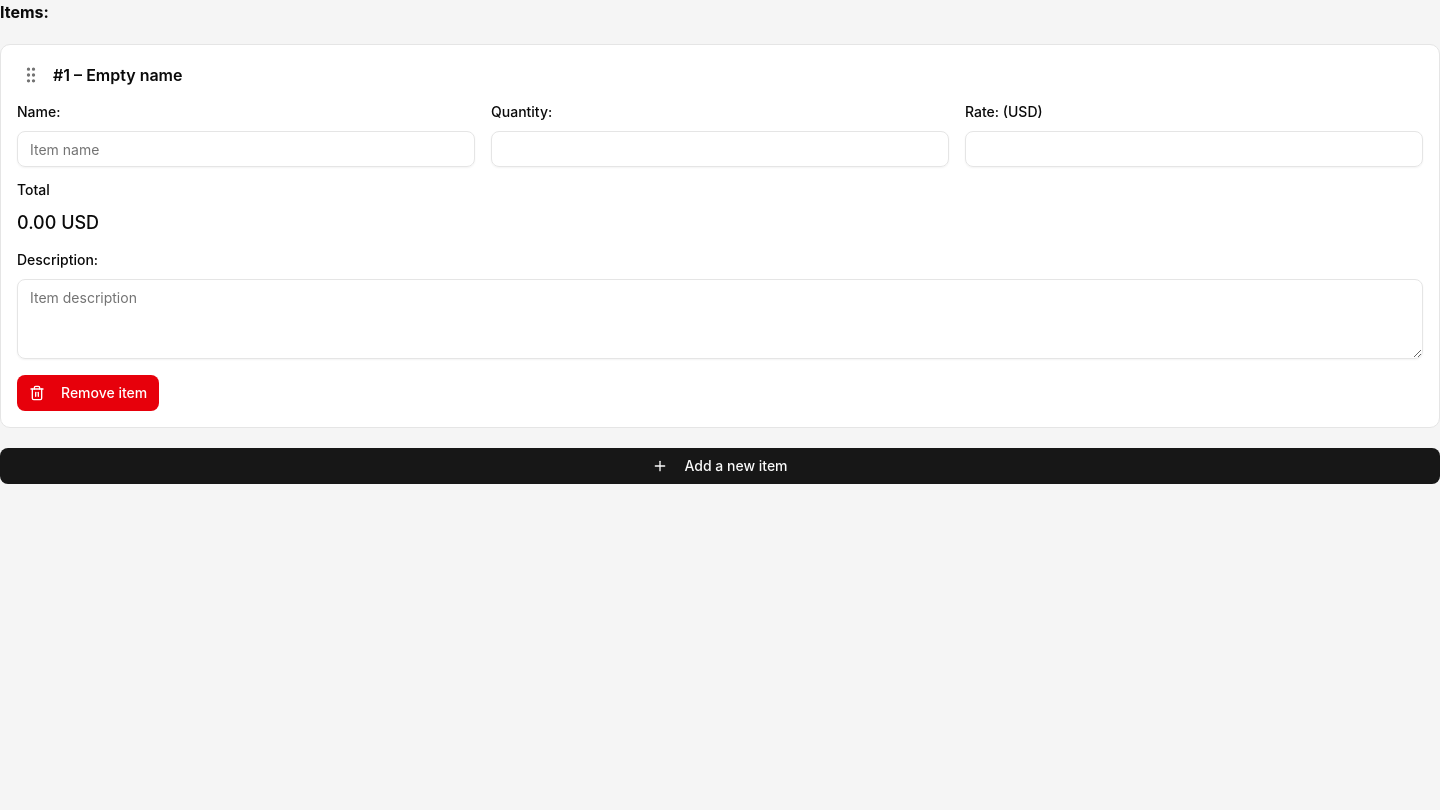
Test: LineItems › removes the item after confirming in the alert dialog
The image size is (1440, 810).
Click the button "Add a new item".
click(720, 466)  # box [0,448,1439,484]
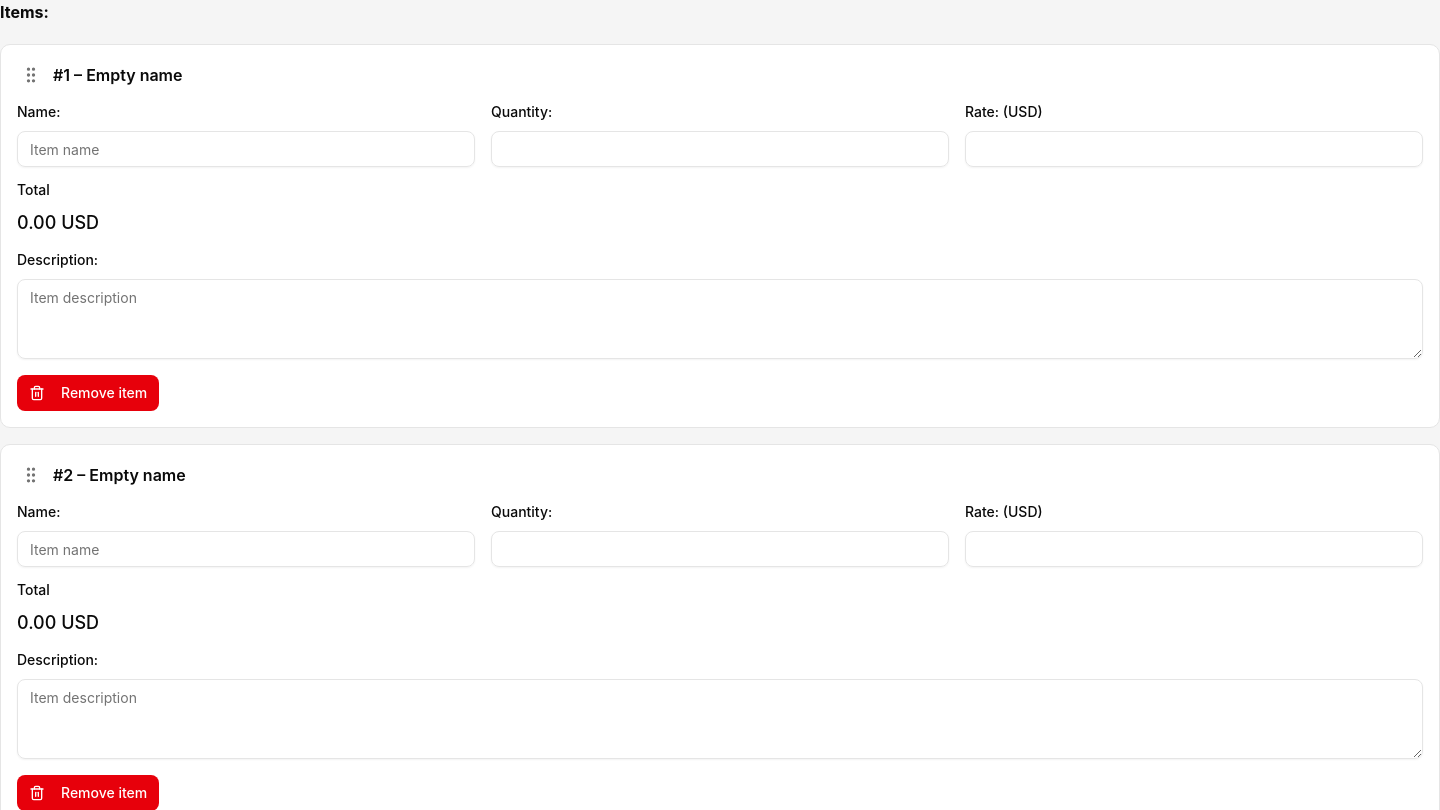
Click the 1st button "Remove item".
click(88, 393)  # box [17,375,159,411]
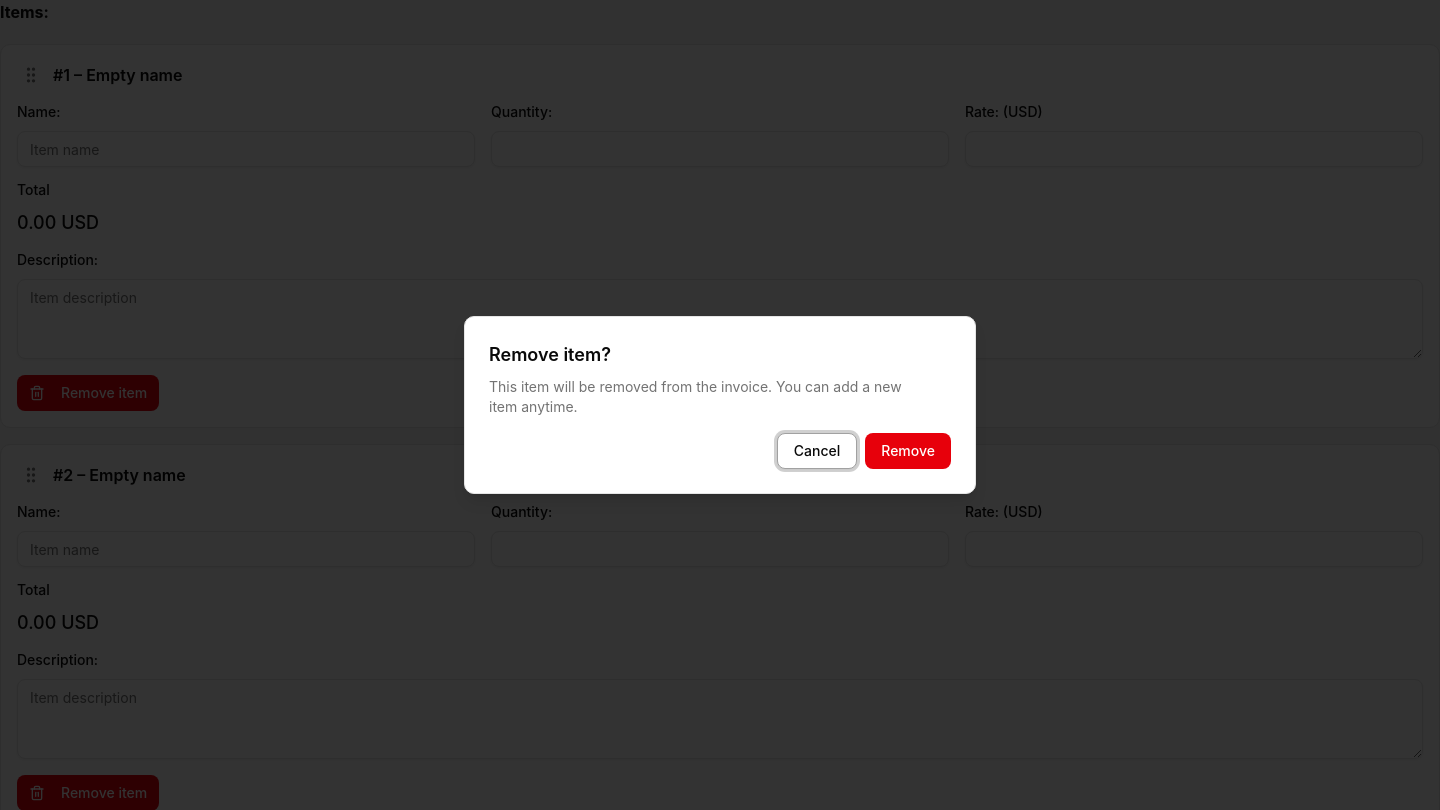
Click the button "Remove".
click(908, 451)  # box [865,433,951,469]
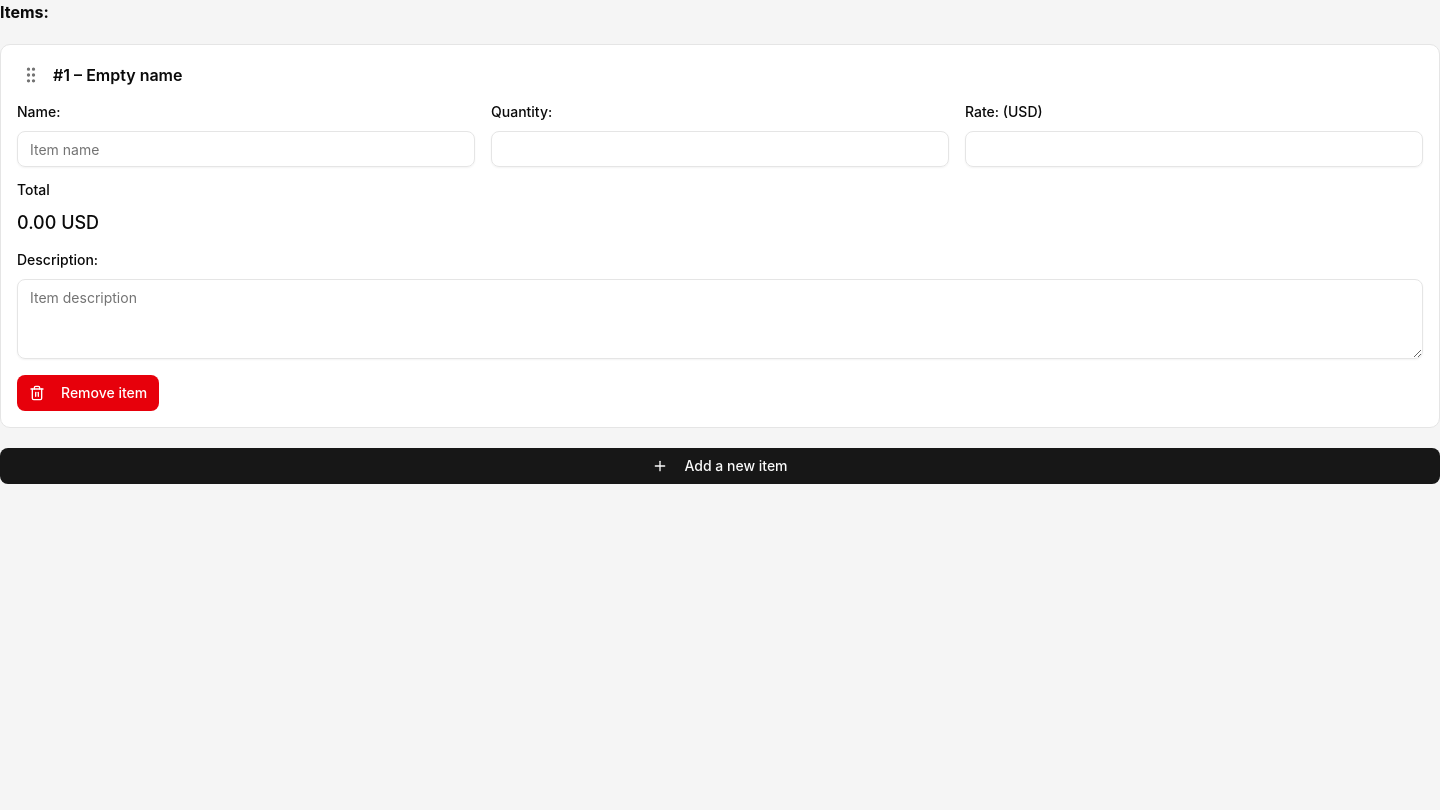
Now the dialog is gone
Now the number of buttons "Remove item" is 1, box [17,375,159,411]
